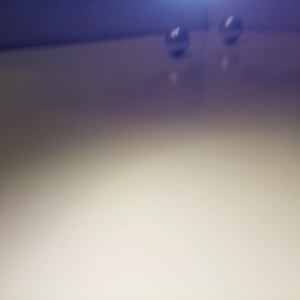alive_ball: (164, 27, 190, 54), (218, 15, 242, 41)
